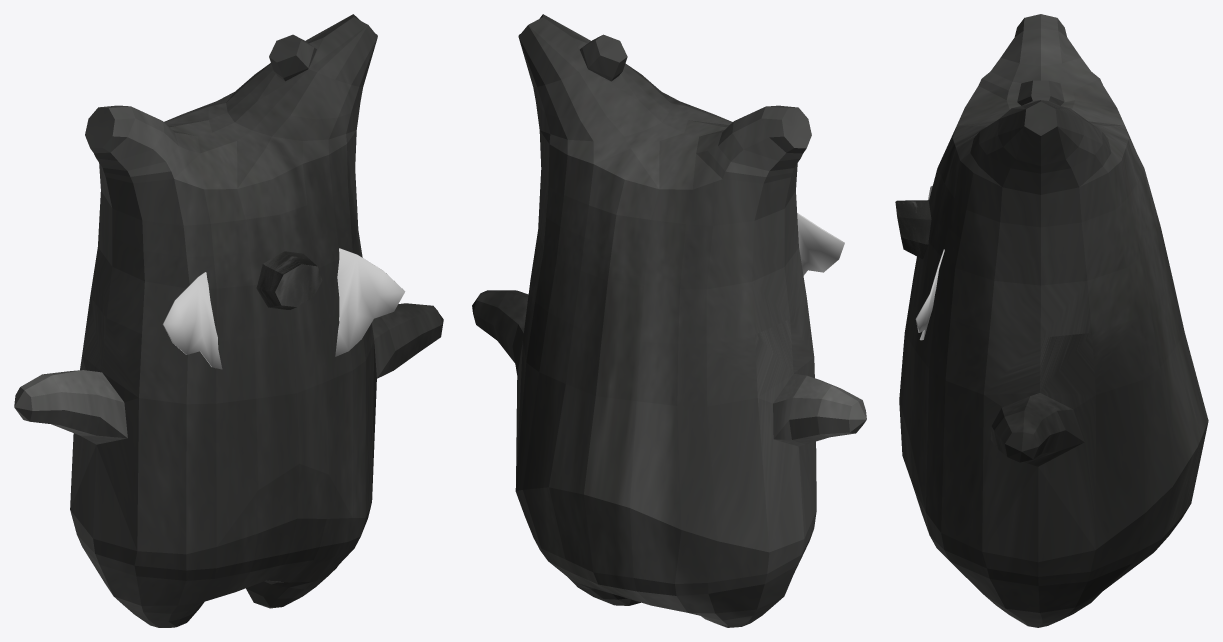
Rendered from frame_0004.obj.
3 renders of one model, left to right at view 1: azimuth 30°, elevation 25°; view 2: azimuth 150°, elevation 25°; view 3: azimuth 270°, elevation 25°, orthographic.
Visible parts, largest first — view 1: korok, leaf, nose; view 2: korok, leaf; view 3: korok, nose, leaf.
Part boxes in pixels (left/top/right/bottom): korok: left=14, top=14, right=443, bottom=627; leaf: left=162, top=248, right=405, bottom=369; nose: left=256, top=251, right=322, bottom=309; korok: left=472, top=14, right=866, bottom=627; leaf: left=797, top=212, right=844, bottom=275; korok: left=899, top=14, right=1208, bottom=627; nose: left=895, top=200, right=931, bottom=259; leaf: left=915, top=186, right=944, bottom=340.
Bounding box in the file's own units: 1.78 × 2.34 × 1.18.
